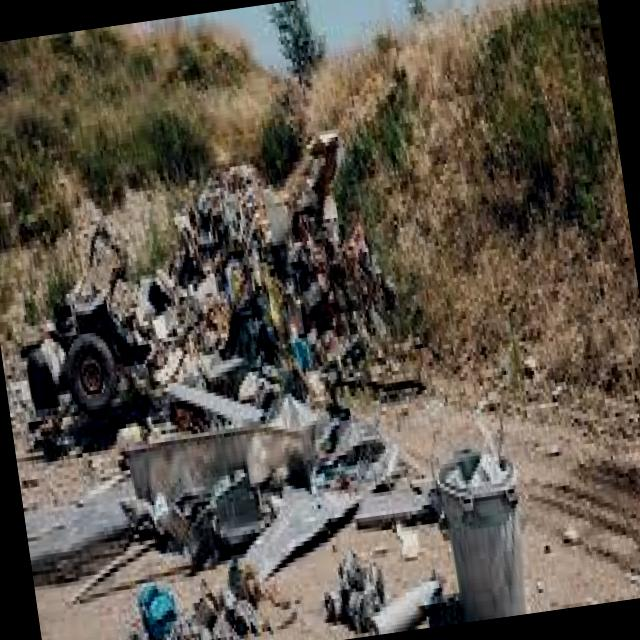garbage: (0, 101, 540, 640)
